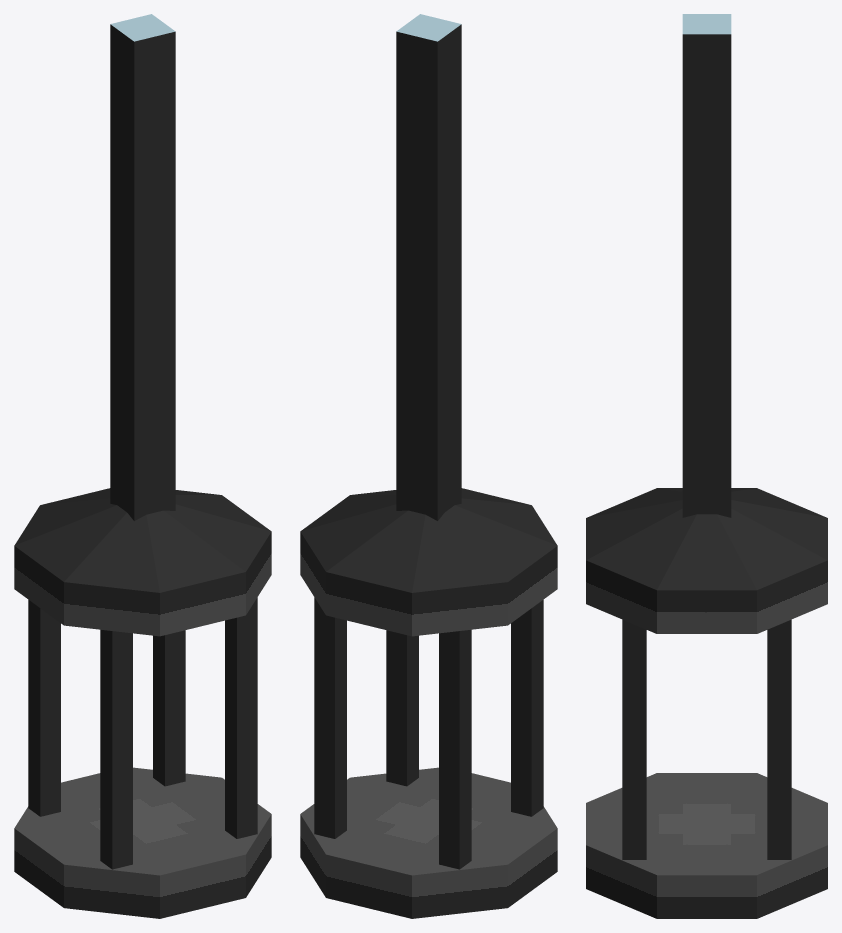
The model's file is lantern.fbx.
3 views of the same model, side by side, from view 1: azimuth 30°, elevation 25°; view 2: azimuth 150°, elevation 25°; view 3: azimuth 270°, elevation 25° (orthographic).
Visible parts, largest first — view 1: cuboid_4, cylinder_1, cylinder, cuboid_1, cuboid_2, cuboid, cuboid_3; view 2: cuboid_4, cylinder_1, cylinder, cuboid, cuboid_3, cuboid_1, cuboid_2; view 3: cylinder_1, cylinder, cuboid_4, cuboid_2, cuboid_3.
Boxes of the visible parts, x1,y1,x2,y2 form: cuboid_4: (110, 14, 175, 520); cylinder_1: (14, 488, 271, 636); cylinder: (14, 767, 271, 918); cuboid_1: (100, 629, 132, 869); cuboid_2: (225, 597, 257, 838); cuboid: (28, 600, 60, 816); cuboid_3: (153, 630, 185, 786); cuboid_4: (396, 14, 461, 520); cylinder_1: (300, 488, 557, 636); cylinder: (300, 767, 557, 918); cuboid: (439, 629, 471, 869); cuboid_3: (314, 597, 346, 838); cuboid_1: (511, 600, 543, 816); cuboid_2: (386, 630, 418, 786); cylinder_1: (586, 488, 827, 633); cylinder: (586, 773, 827, 918); cuboid_4: (682, 14, 731, 517); cuboid_2: (622, 619, 646, 859); cuboid_3: (767, 619, 791, 859).
Bounding box in the file's own units: 62.5 × 253 × 62.5.
Materials: 1 (1 with a texture image).
